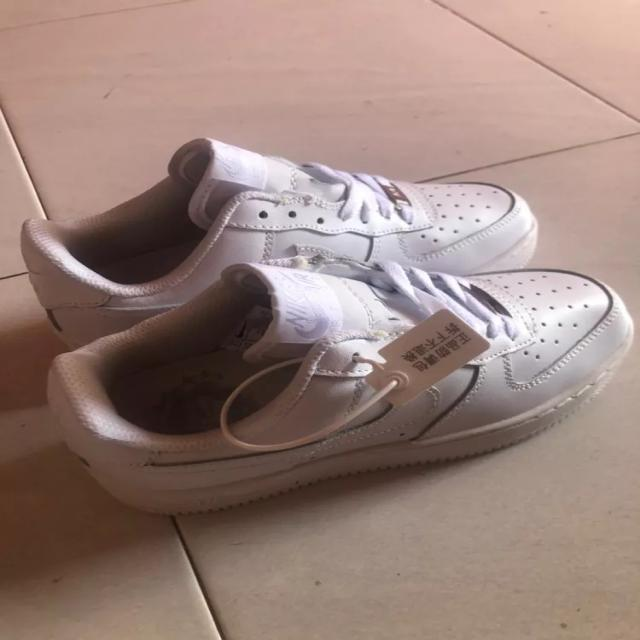nike fake air force: (38, 262, 640, 518), (19, 136, 580, 349)
